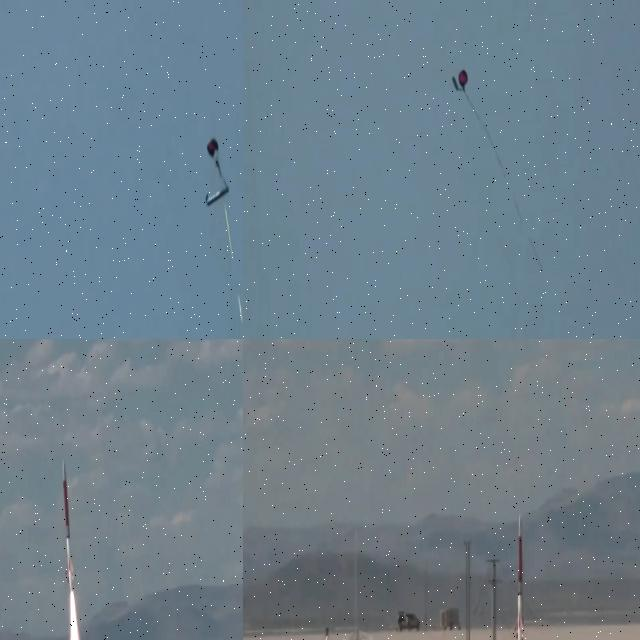Rocket: (62, 459, 76, 592), (514, 512, 525, 640)
